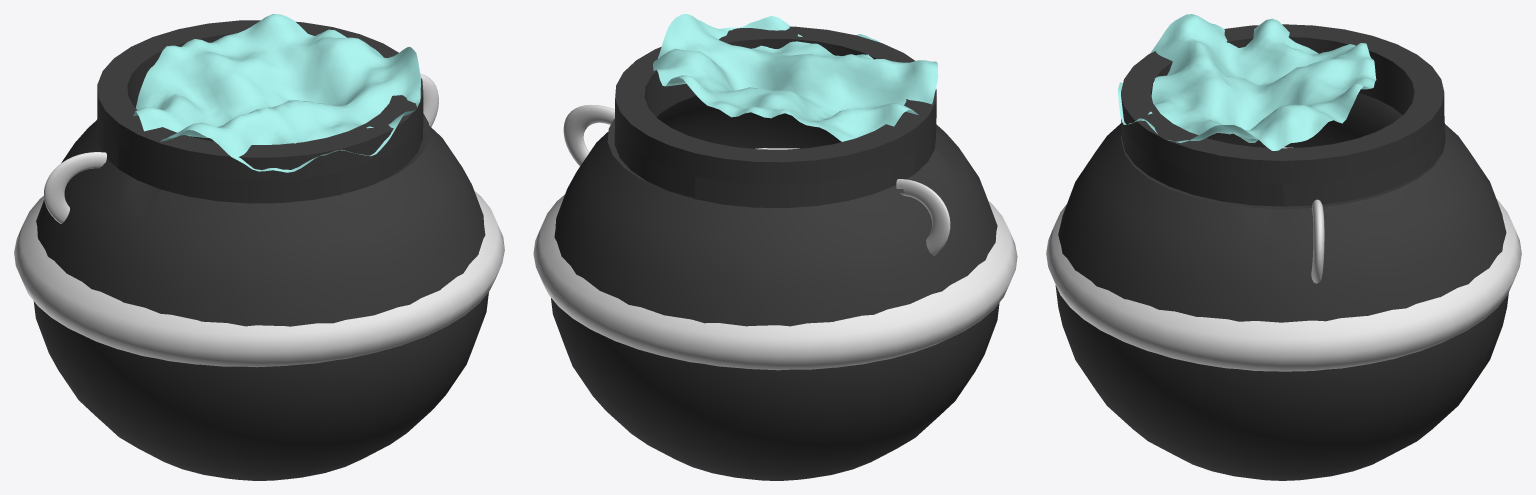
Rendered from caul.fbx.
3 renders of one model, left to right at view 1: azimuth 30°, elevation 25°; view 2: azimuth 150°, elevation 25°; view 3: azimuth 270°, elevation 25°, orthographic.
Parts seen in each view (by area): view 1: Sphere, Cylinder, Torus, Torus.002, Torus.001; view 2: Sphere, Torus, Cylinder, Torus.002, Torus.001; view 3: Sphere, Torus, Cylinder, Torus.001.
Part boxes in pixels (x1,y1,x2,y2): Sphere: (33, 20, 488, 480); Cylinder: (133, 14, 420, 172); Torus: (14, 191, 504, 367); Torus.002: (44, 152, 106, 223); Torus.001: (420, 73, 438, 126); Sphere: (551, 26, 999, 480); Torus: (533, 148, 1017, 370); Cylinder: (653, 14, 938, 141); Torus.002: (896, 179, 950, 255); Torus.001: (563, 104, 614, 166); Sphere: (1055, 24, 1508, 480); Torus: (1046, 147, 1521, 371); Cylinder: (1117, 14, 1376, 150); Torus.001: (1311, 199, 1324, 283).
Size of the model in its own units: 266 by 239 by 258.
